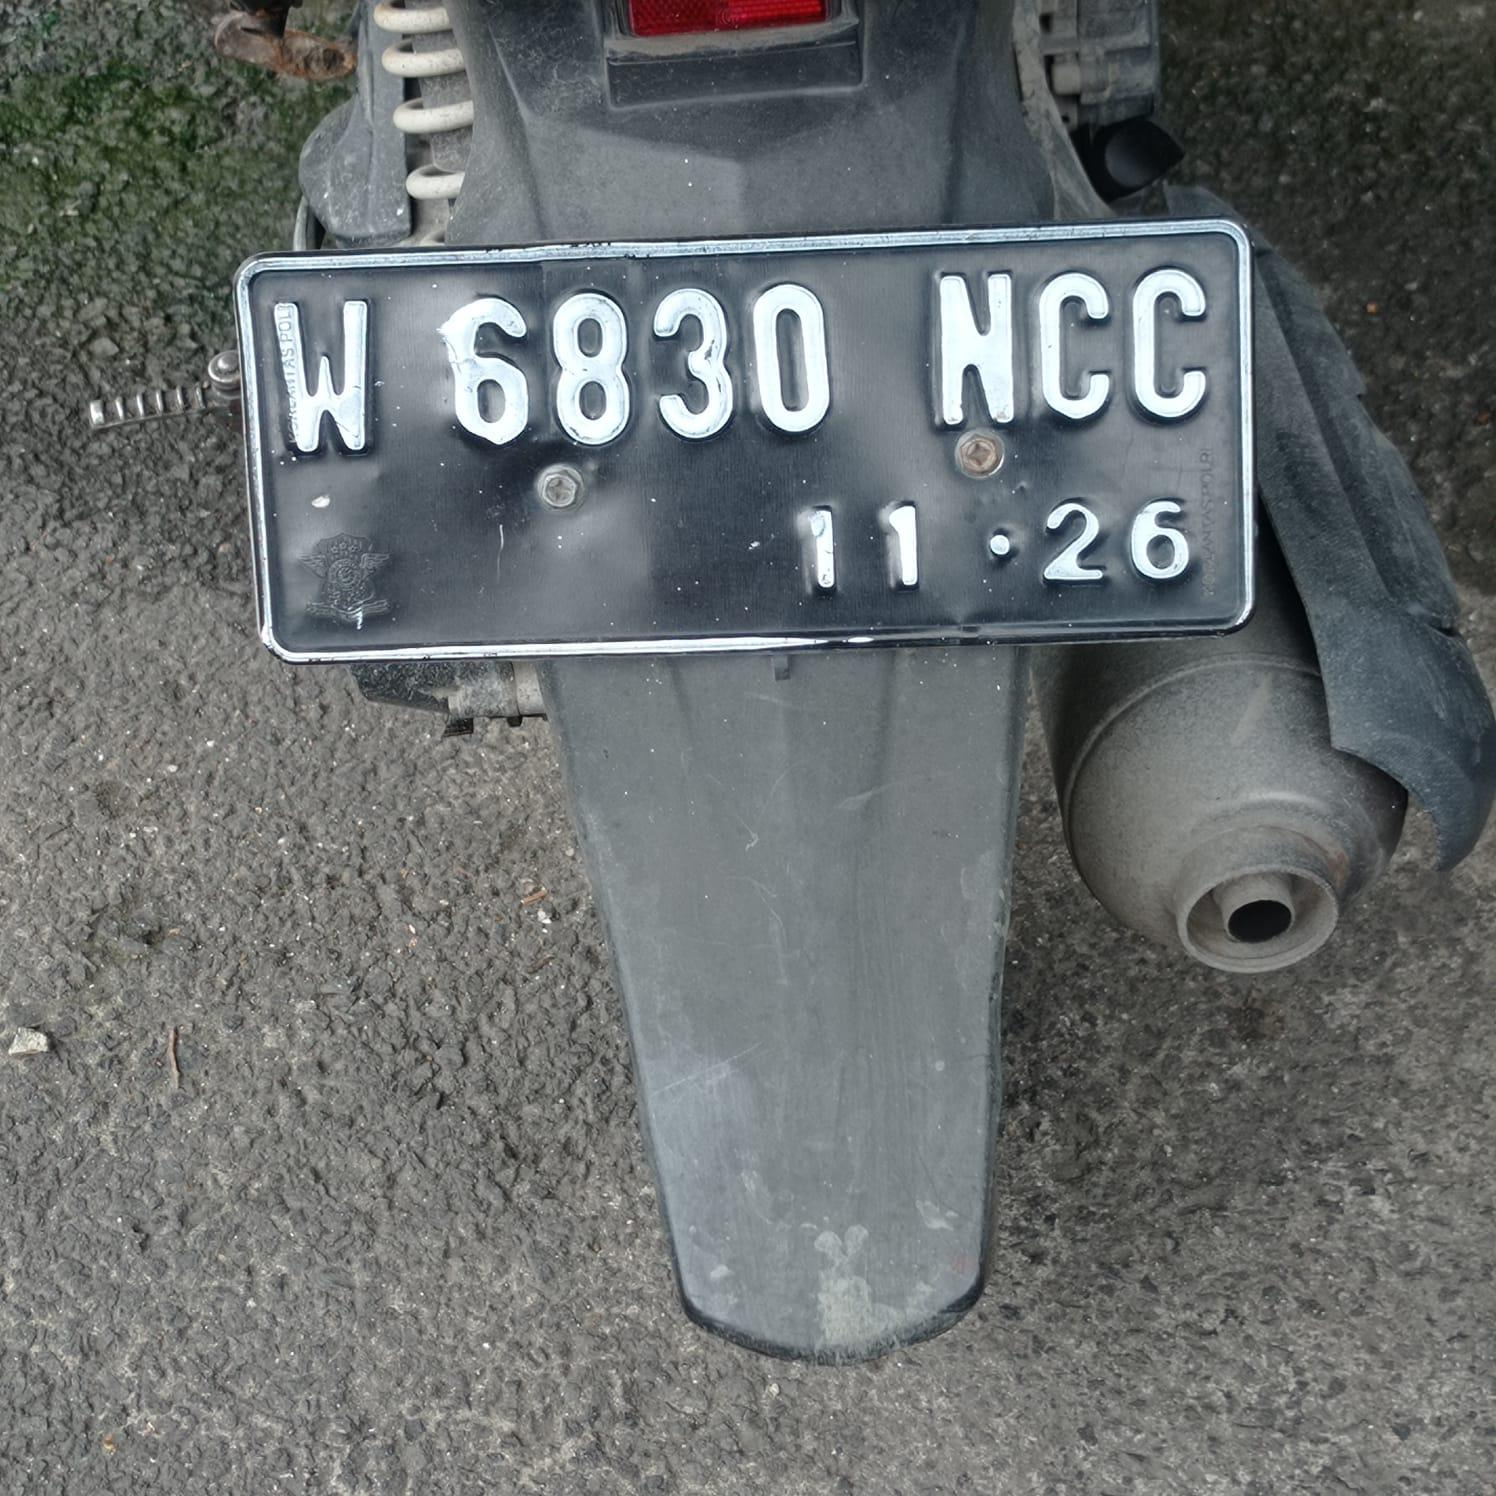plat: (237, 222, 1254, 660)
